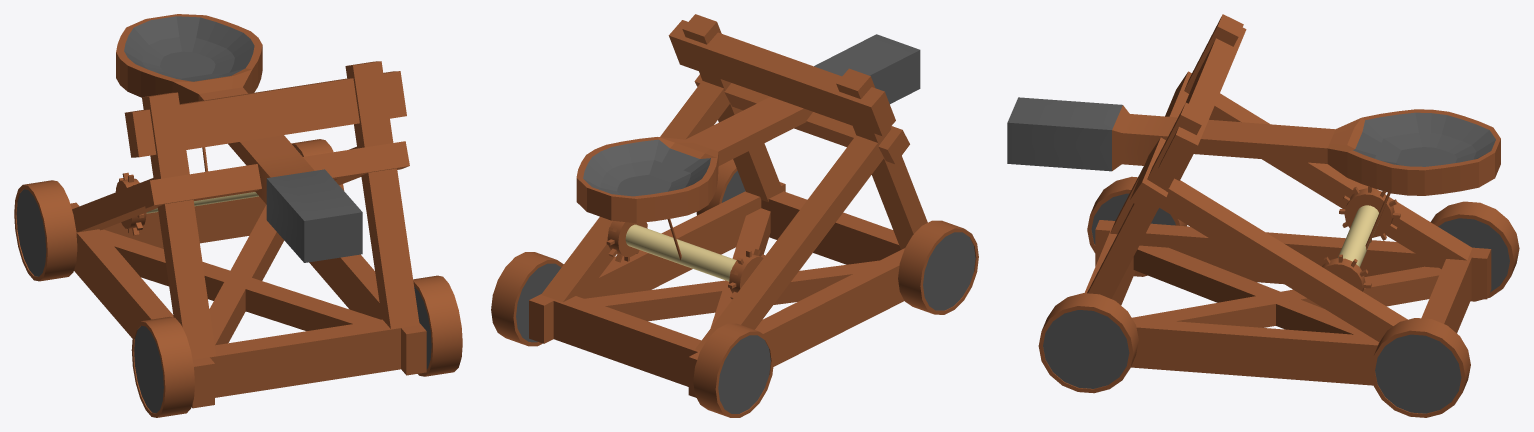
File: 1efbb6fe-4c01-4766-81b0-d4feadf8e858.glb
3 renders of one model, left to right at view 1: azimuth 30°, elevation 25°; view 2: azimuth 150°, elevation 25°; view 3: azimuth 270°, elevation 25°, orthographic. The views are drawn at different scales.
Visible parts, largest first — view 1: Box029, Box038, Box035, Box028, Box032, Box037, Box036, Box030, Box026, Box043, Cylinder011, Cylinder012 (+8 smaller); view 2: Box029, Box038, Box044, Box036, Box039, Box026, Box033, Box043, Box035, Box032, Object007, Object006 (+11 smaller); view 3: Box029, Box026, Box033, Box036, Box043, Box044, Object008, Object005, Box037, Box028, Box038, Cylinder013 (+12 smaller).
Part boxes in pixels (left/top/right/bottom): Box029: left=116, top=14, right=362, bottom=262; Box038: left=124, top=71, right=406, bottom=157; Box035: left=193, top=319, right=418, bottom=397; Box028: left=345, top=61, right=419, bottom=329; Box032: left=142, top=92, right=215, bottom=359; Box037: left=100, top=229, right=380, bottom=331; Box036: left=70, top=202, right=214, bottom=408; Box030: left=141, top=141, right=409, bottom=208; Box026: left=309, top=254, right=426, bottom=375; Box043: left=209, top=205, right=283, bottom=345; Cylinder011: left=131, top=316, right=194, bottom=417; Cylinder012: left=14, top=180, right=77, bottom=281; Box029: left=576, top=34, right=920, bottom=223; Box038: left=668, top=20, right=895, bottom=136; Box044: left=695, top=135, right=883, bottom=350; Box036: left=688, top=248, right=904, bottom=397; Box039: left=543, top=296, right=701, bottom=386; Box026: left=529, top=182, right=785, bottom=343; Box033: left=541, top=81, right=729, bottom=302; Box043: left=584, top=260, right=879, bottom=321; Box035: left=761, top=191, right=901, bottom=264; Box032: left=836, top=68, right=927, bottom=249; Object007: left=923, top=232, right=975, bottom=310; Object006: left=718, top=335, right=770, bottom=413; Box029: left=1007, top=97, right=1500, bottom=195; Box026: left=1131, top=318, right=1379, bottom=385; Box033: left=1159, top=178, right=1407, bottom=342; Box036: left=1095, top=220, right=1491, bottom=299; Box043: left=1133, top=245, right=1367, bottom=335; Box044: left=1209, top=93, right=1472, bottom=269; Object008: left=1043, top=310, right=1129, bottom=388; Object005: left=1375, top=334, right=1461, bottom=413; Box037: left=1132, top=266, right=1441, bottom=327; Box028: left=1087, top=102, right=1206, bottom=298; Box038: left=1157, top=27, right=1246, bottom=180; Cylinder013: left=1370, top=318, right=1470, bottom=417.
Size of the model in its own units: 121307 by 94847 by 163053.
